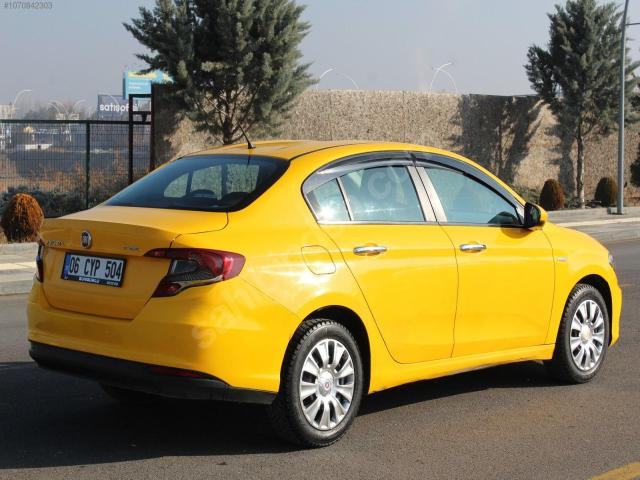plaka: (61, 253, 125, 287)
